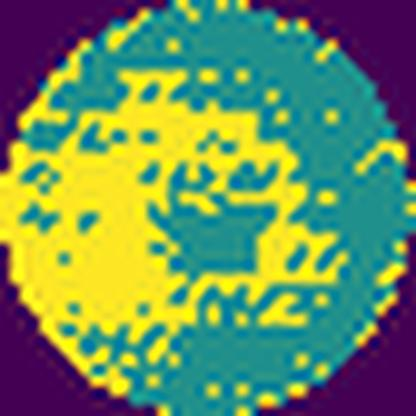Donut: (4, 46, 354, 376)
